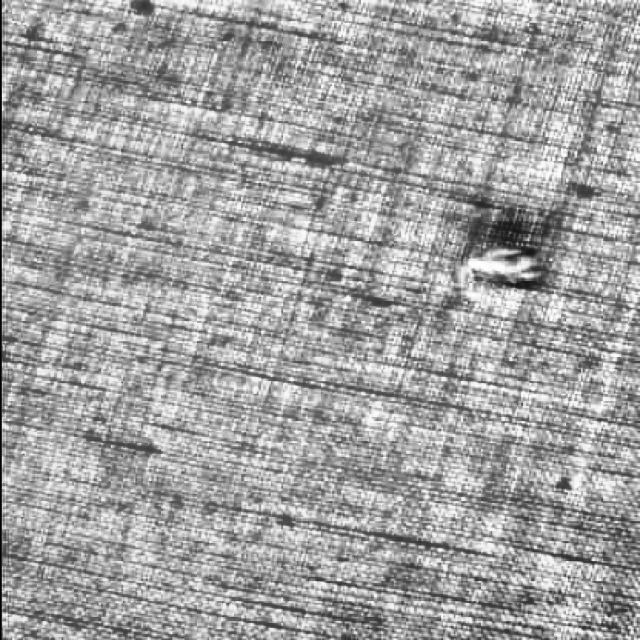objects: (449, 227, 562, 311)
